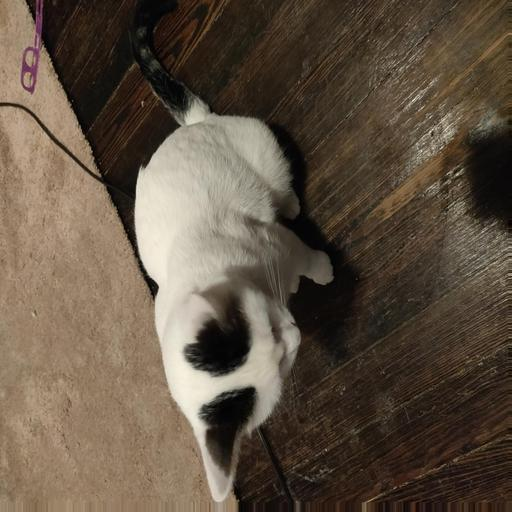cat: (51, 113, 374, 436)
